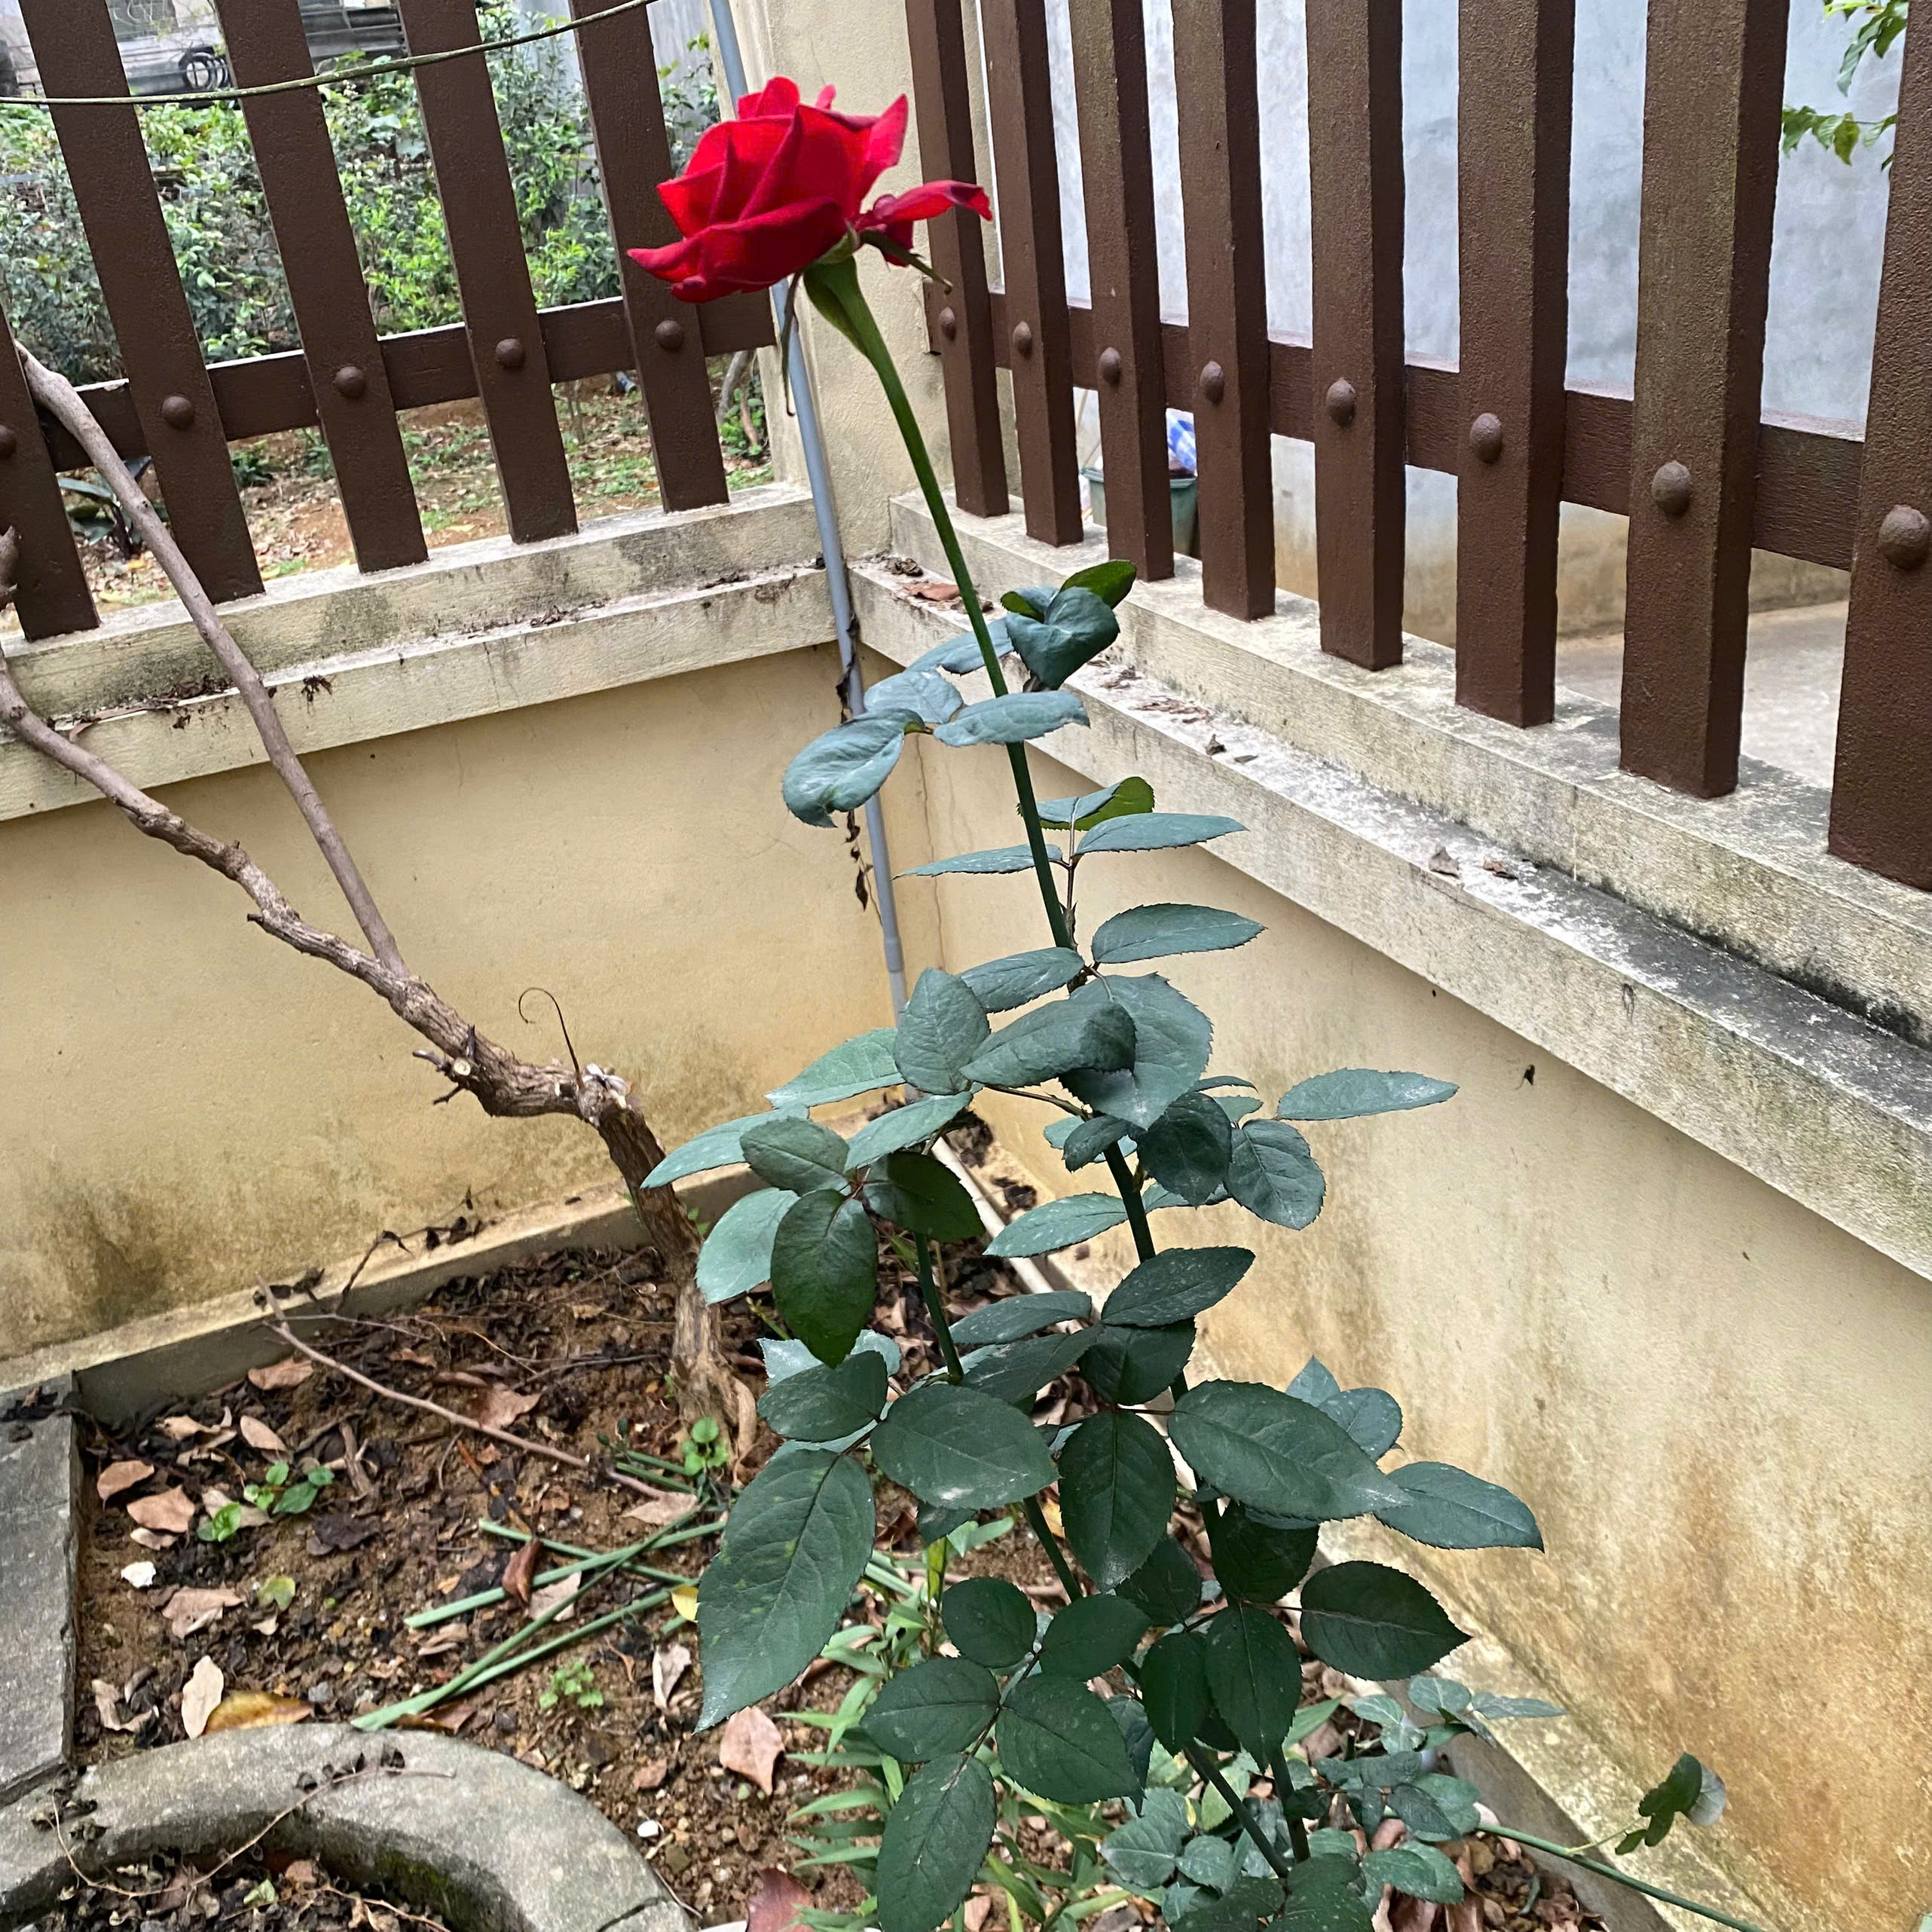hoa_hong_do: (556, 119, 1555, 1881)
